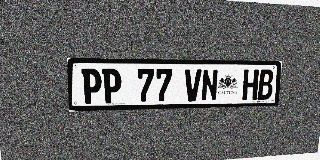7: (136, 69, 154, 103), (155, 69, 172, 102)
B: (257, 69, 274, 100)
H: (242, 69, 259, 100)
N: (201, 69, 218, 101)
P: (81, 68, 102, 104), (102, 69, 121, 103)
V: (184, 69, 202, 102)
